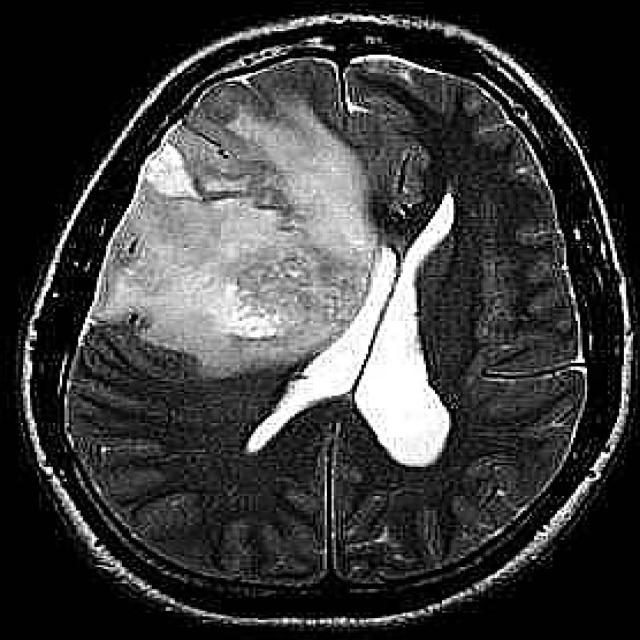Tumor-Cell: (84, 98, 366, 392)
